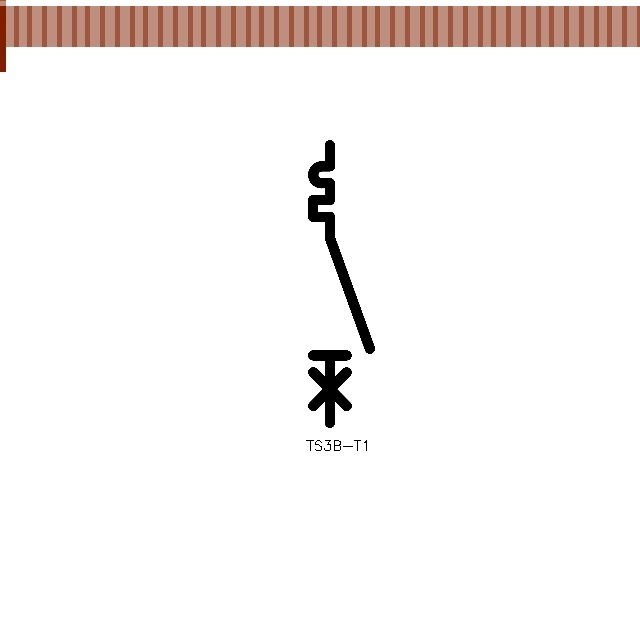interruptor_termomagnetico: (306, 138, 377, 430)
